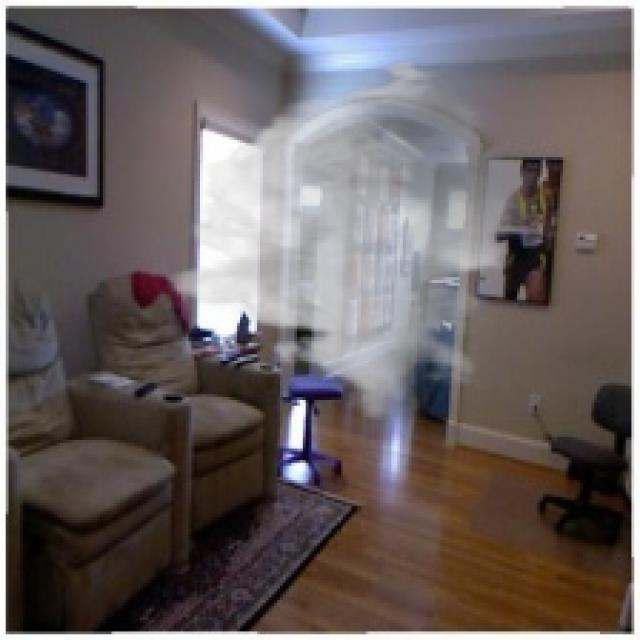Smoke: (162, 57, 548, 423)
